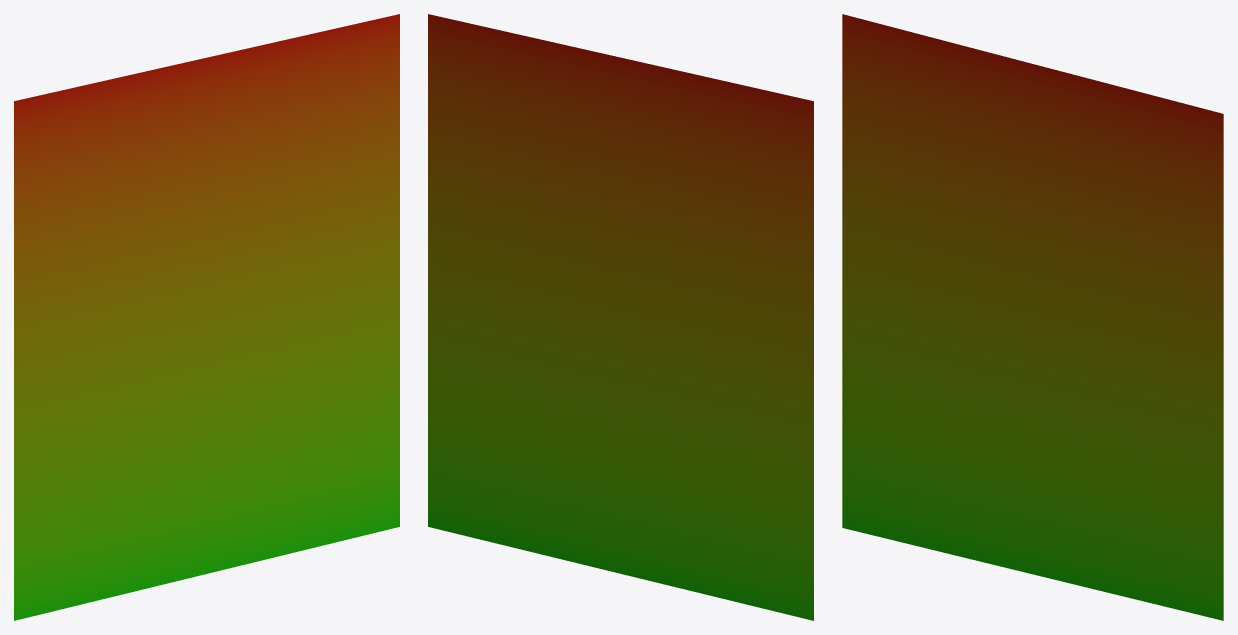
The model's file is Var3_LOD3.fbx.
3 renders of one model, left to right at view 1: azimuth 30°, elevation 25°; view 2: azimuth 150°, elevation 25°; view 3: azimuth 330°, elevation 25°, orthographic.
Parts seen in each view (by area): view 1: _7034_Var3_LOD3; view 2: _7034_Var3_LOD3; view 3: _7034_Var3_LOD3.
Part boxes in pixels (bbox=[...]): _7034_Var3_LOD3: bbox=[14, 14, 399, 620]; _7034_Var3_LOD3: bbox=[428, 14, 813, 620]; _7034_Var3_LOD3: bbox=[842, 14, 1223, 620].
Size of the model in its own units: 67.56 by 86.92 by 2.15e-06.
